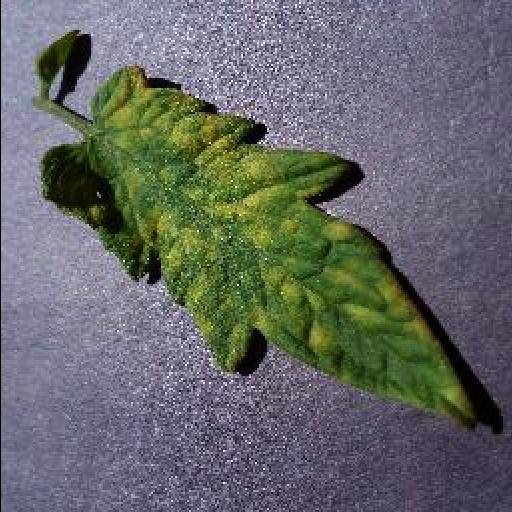disease_tomato: (42, 67, 480, 428)
